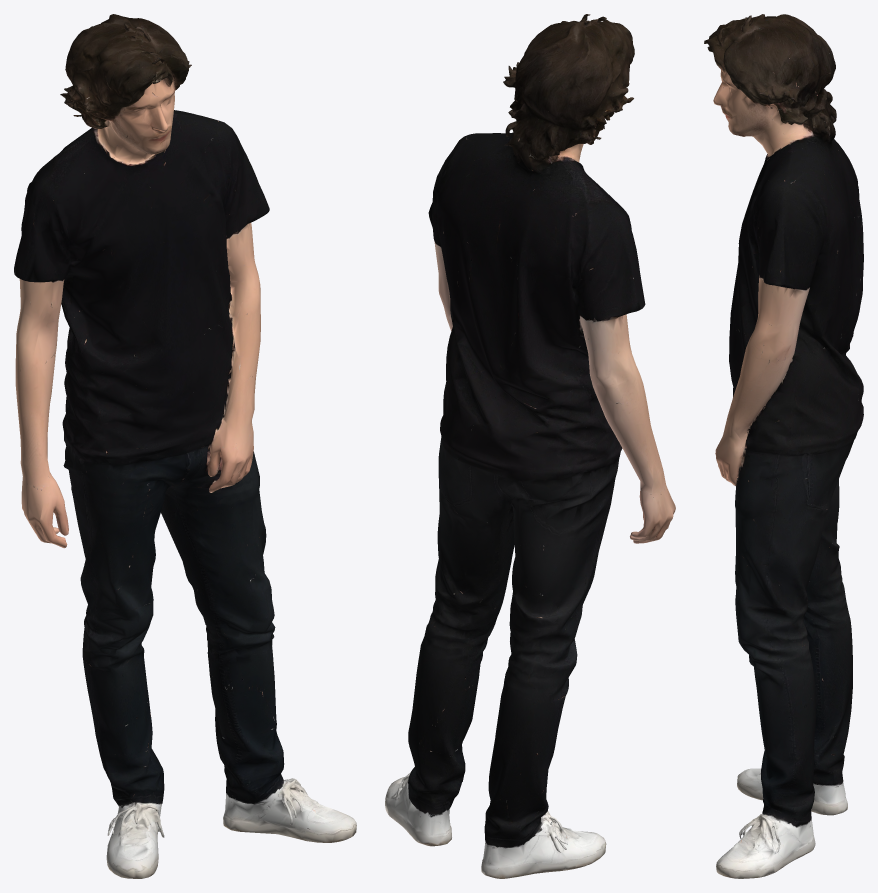
Rendered from man_tshirt.glb.
The picture shows the model from 3 angles, left to right: view 1: azimuth 30°, elevation 25°; view 2: azimuth 150°, elevation 25°; view 3: azimuth 270°, elevation 25°; orthographic projection. The views are drawn at different scales.
Parts seen in each view (by area): view 1: Object_5; view 2: Object_5; view 3: Object_5.
Boxes of the visible parts, <box> form: Object_5: <box>14,14,356,878</box>; Object_5: <box>385,14,675,878</box>; Object_5: <box>704,14,863,878</box>.
Bounding box in the file's own units: 0.7148 × 1.9 × 0.3555.
1 material, 1 textured.
